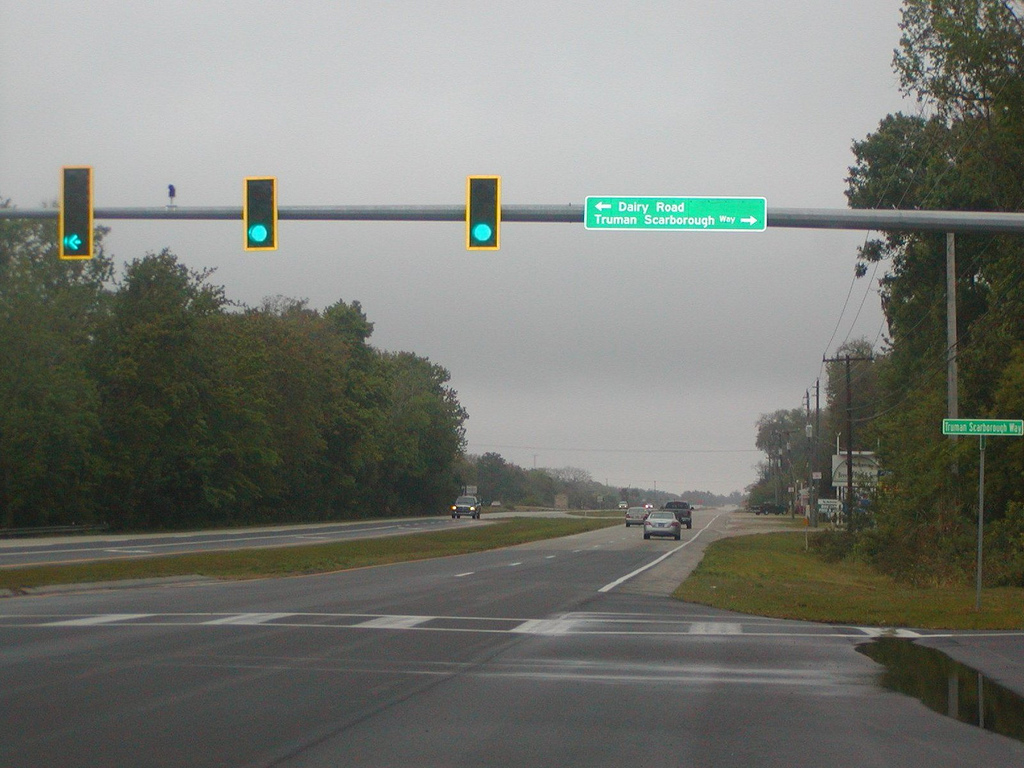traffic_light: (57, 163, 96, 261), (240, 174, 280, 253), (464, 173, 503, 253)
